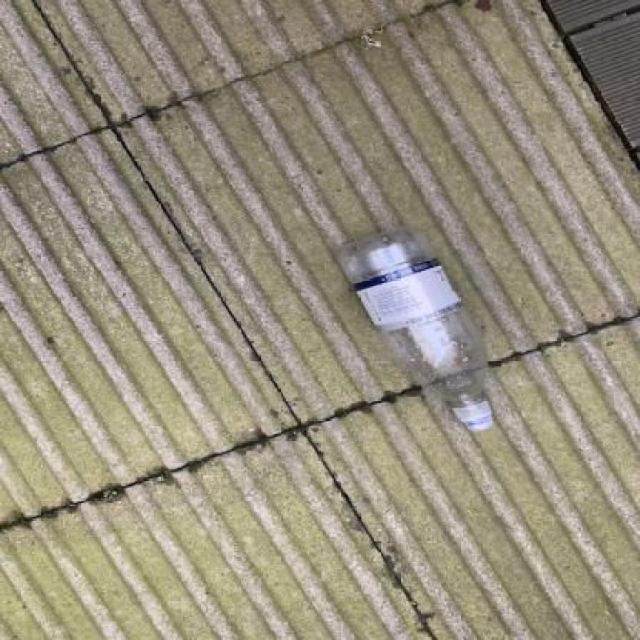trash: (336, 223, 507, 437)
